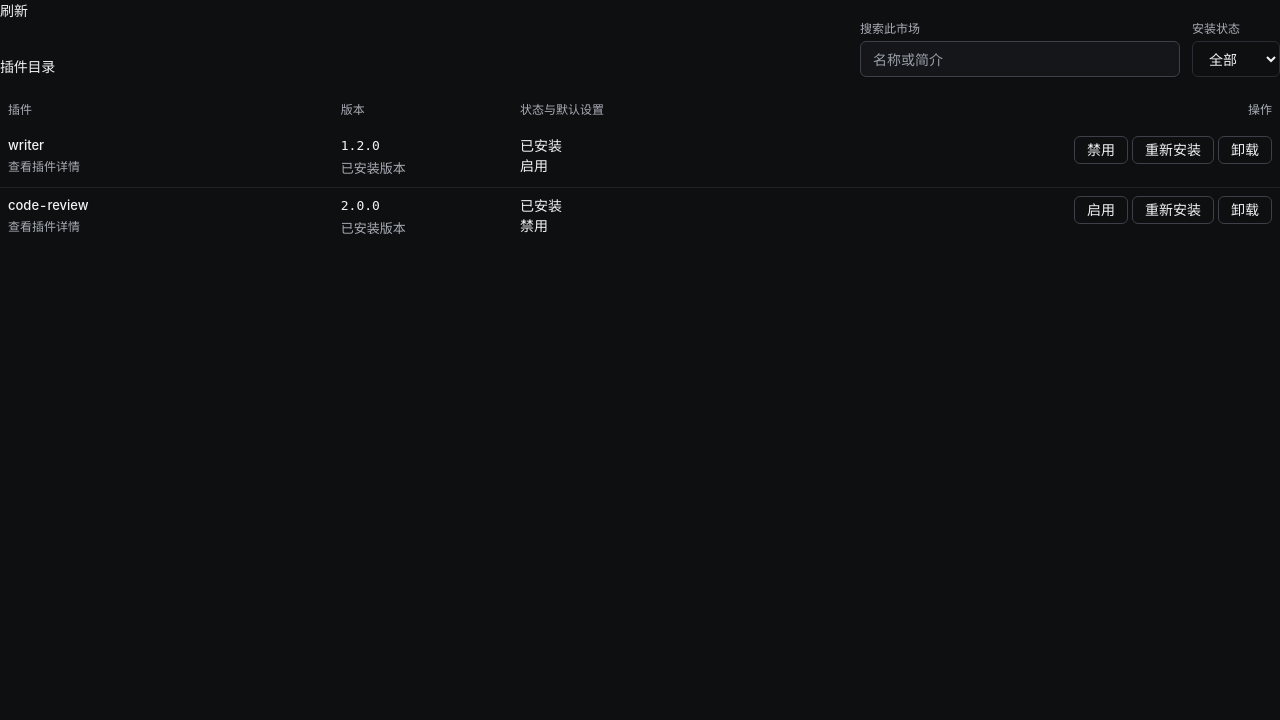
Test: Codex plugin management › confirms the exact plugin and market, cancels without writing and restores focus
Click the button with aria-label "禁用 writer（personal）".
click(1101, 150)  # box 1074,136 -> 1128,164
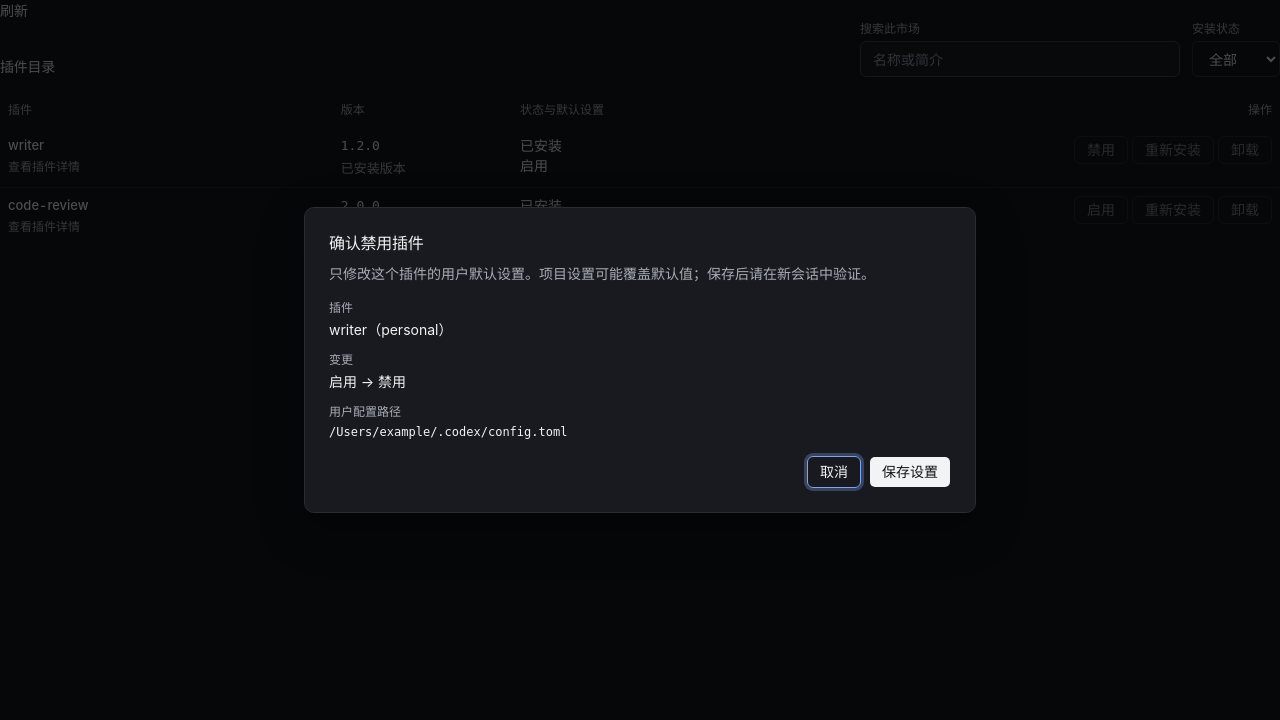
Now the text "writer（personal）" is shown, box 329,321 -> 452,338
Now the text "启用 → 禁用" is shown, box 329,373 -> 406,390
Now the text "只修改这个插件的用户默认设置。项目设置可能覆盖默认值；保存后请在新会话中验证。" is shown, box 329,264 -> 951,284
Click the button "取消".
click(834, 472)  # box 807,456 -> 861,488
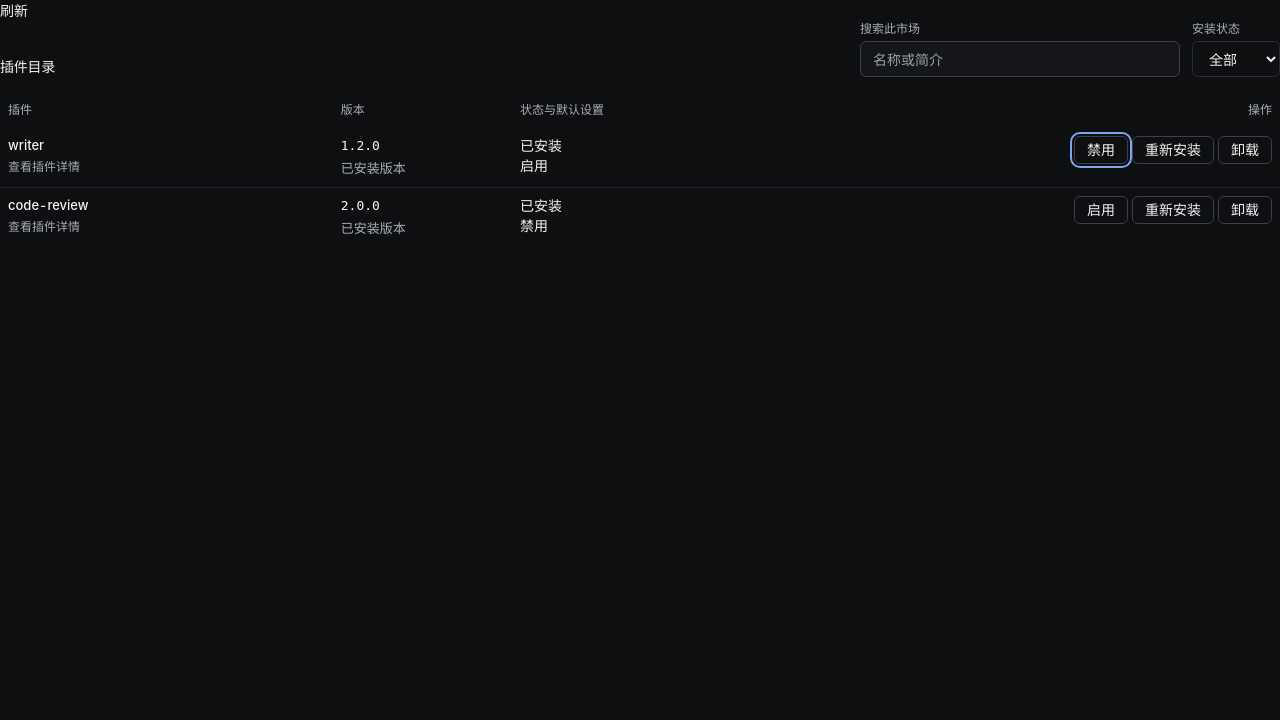
Now the dialog is gone
